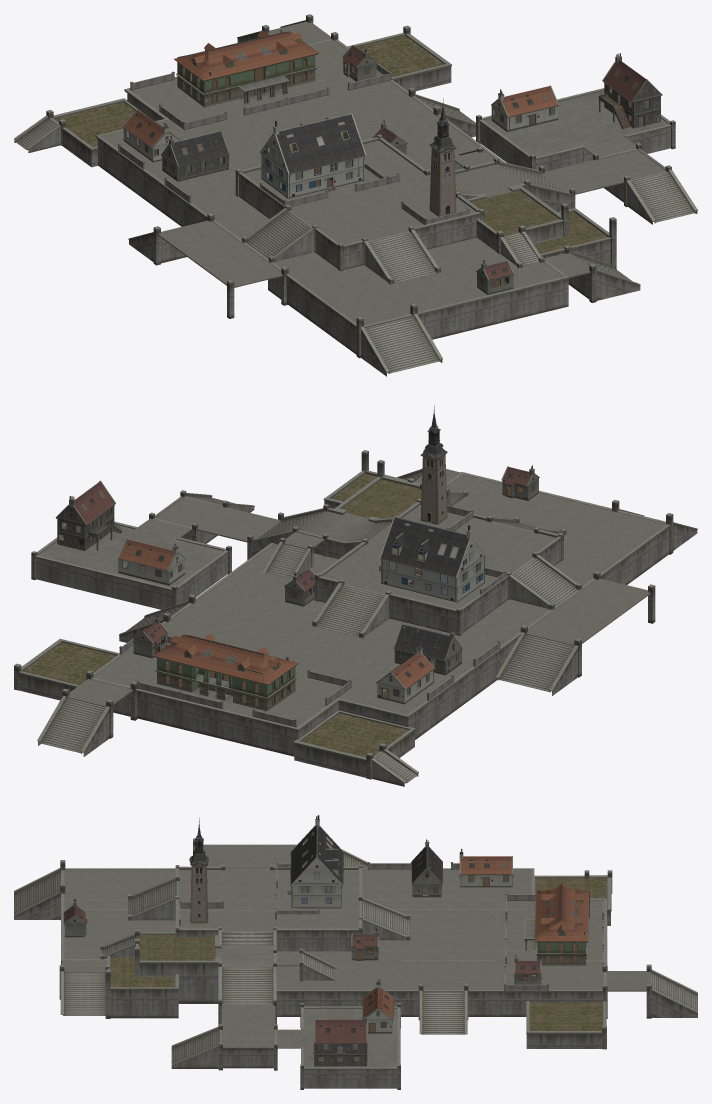
The picture shows the model from 3 angles, top to bottom: view 1: azimuth 30°, elevation 25°; view 2: azimuth 150°, elevation 25°; view 3: azimuth 270°, elevation 25°; orthographic projection. The views are drawn at different scales.
Parts seen in each view (by area): view 1: Object_2; view 2: Object_2; view 3: Object_2.
Boxes of the visible parts, x1=… form: Object_2: x1=14, y1=14, x2=697, y2=376; Object_2: x1=14, y1=405, x2=697, y2=786; Object_2: x1=14, y1=815, x2=697, y2=1089.
Bounding box in the file's own units: 119 × 37.6 × 155.
Materials: 1 (1 with a texture image).
